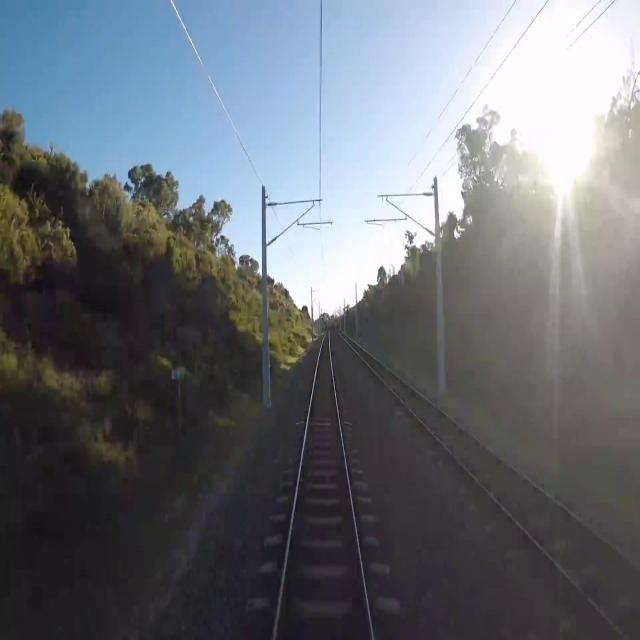rail-track: (348, 339, 639, 633), (276, 332, 370, 639)
